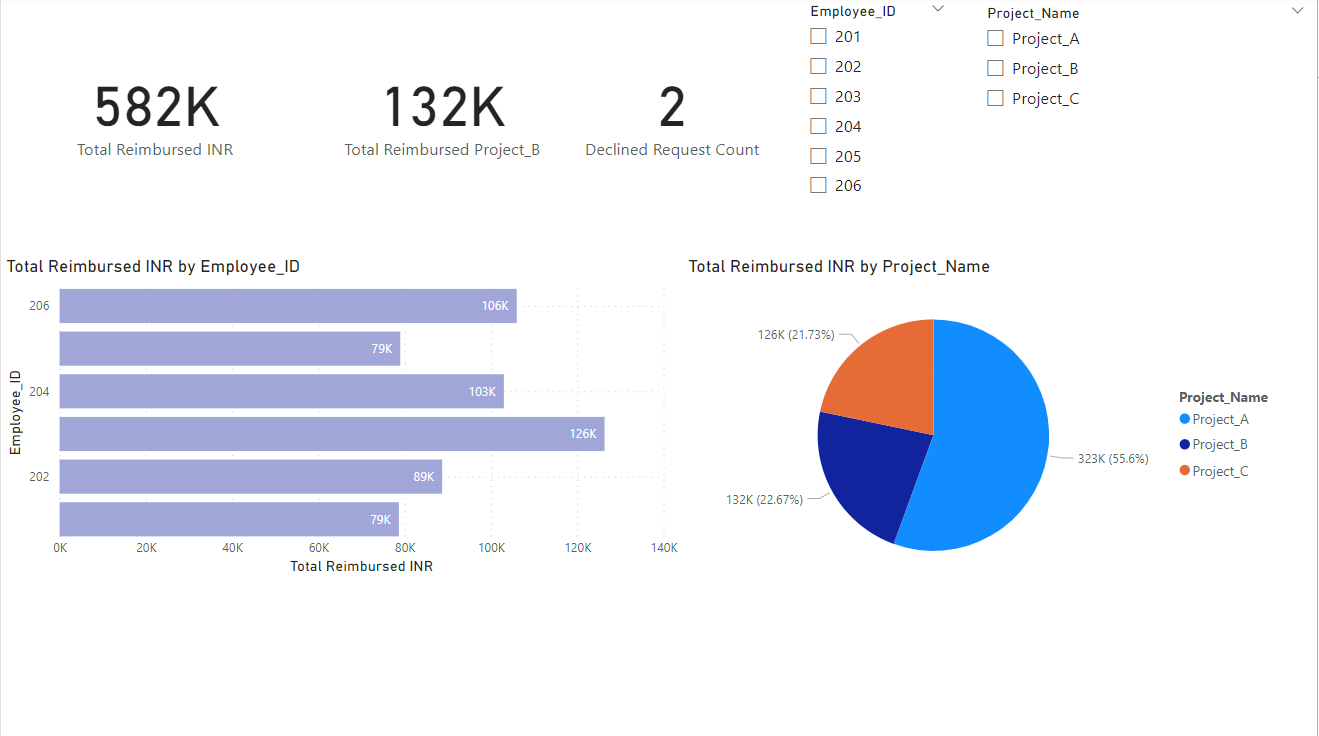

The page's visual inventory and layout, read from the dashboard file:
{"tool":"powerbi","page":{"name":"Page 1","canvas":[1280,720],"ordinal":0},"visuals":[{"type":"card","fields":{"Values":["fact_reimbursement.Total Reimbursed INR"]},"box":[0,0,299.8,219],"z":0},{"type":"card","fields":{"Values":["fact_reimbursement.Total Reimbursed Project_B"]},"box":[310.4,0,238.1,219],"z":1000},{"type":"card","fields":{"Values":["fact_reimbursement.Declined Request Count"]},"box":[548.6,0,208.4,219],"z":2000},{"type":"slicer","fields":{"Values":["fact_reimbursement.Project_Name"]},"box":[946.2,2.1,333.8,219],"z":3000},{"type":"slicer","fields":{"Values":["fact_reimbursement.Employee_ID"]},"box":[774,0,156.3,221.1],"z":4000},{"type":"barChart","fields":{"Y":["fact_reimbursement.Total Reimbursed INR"],"Category":["fact_reimbursement.Employee_ID"]},"box":[0,252,663.4,314.7],"z":5000},{"type":"pieChart","fields":{"Category":["fact_reimbursement.Project_Name"],"Y":["fact_reimbursement.Total Reimbursed INR"]},"box":[663.4,252,591.1,329.6],"z":5001}]}

Visuals, with their boxes in screenshot pixels (x1, y1, x2, y2), scaled from the page's 1280x720 canvas onto the 1319x736 screenshot:
card - fact_reimbursement.Total Reimbursed INR: Rect(0, 0, 309, 224)
card - fact_reimbursement.Total Reimbursed Project_B: Rect(320, 0, 565, 224)
card - fact_reimbursement.Declined Request Count: Rect(565, 0, 780, 224)
slicer - fact_reimbursement.Project_Name: Rect(975, 2, 1318, 226)
slicer - fact_reimbursement.Employee_ID: Rect(798, 0, 959, 226)
barChart - fact_reimbursement.Total Reimbursed INR x fact_reimbursement.Employee_ID: Rect(0, 258, 684, 579)
pieChart - fact_reimbursement.Project_Name x fact_reimbursement.Total Reimbursed INR: Rect(684, 258, 1293, 595)
